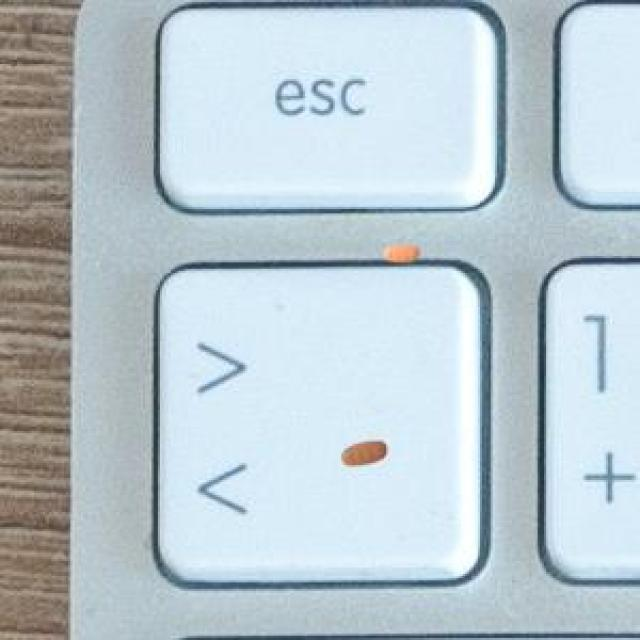Biogesic: (325, 432, 412, 480), (373, 232, 436, 283)
